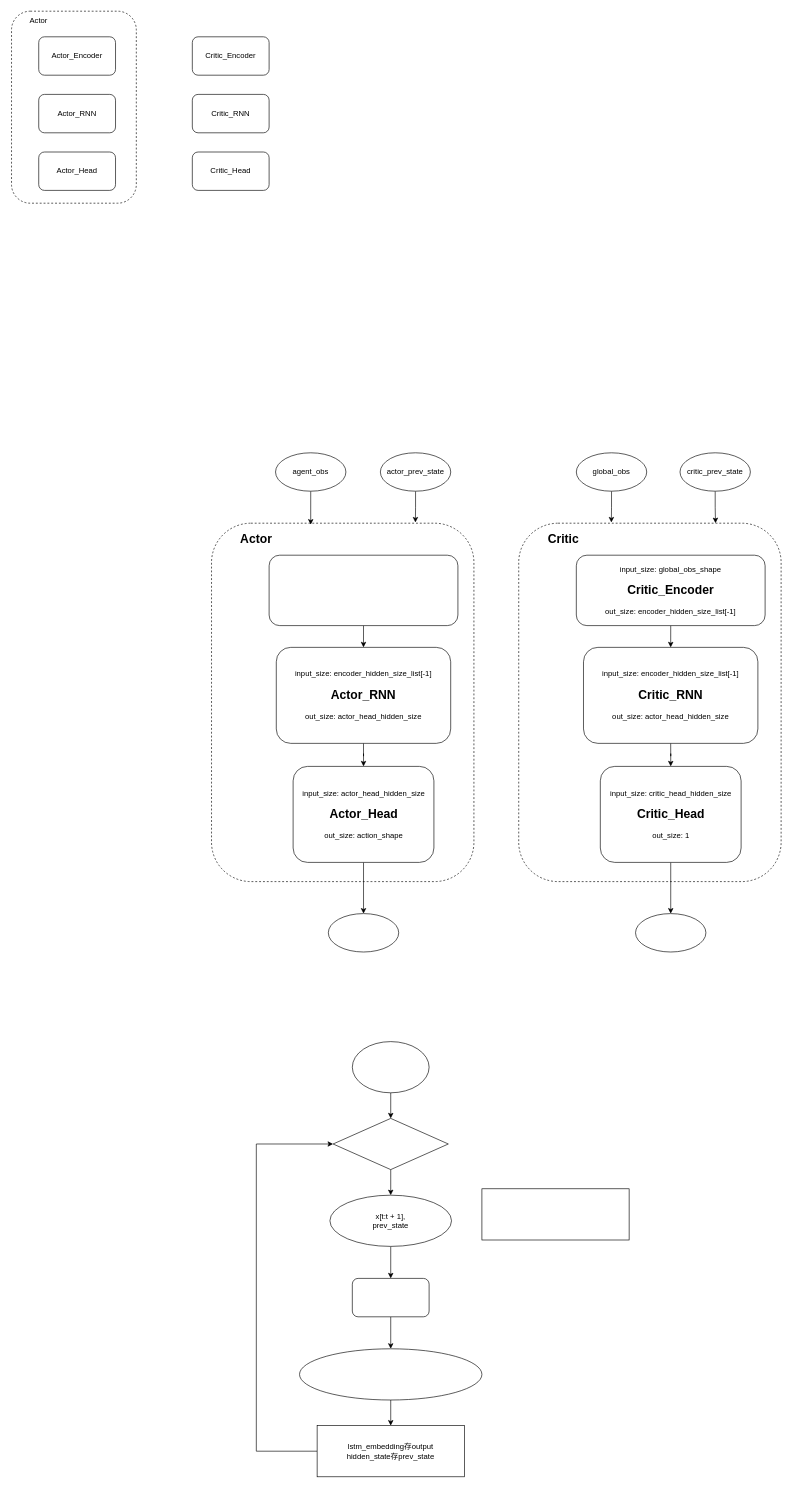
The diagram is 792 pixels wide and 1488 high, and some of its shapes have lost their labels. The centre of each missing label's shape, as x and y in pixels:
"action_logits /mu_sigma" belongs at point 363,932.
"input_size: agent_obs_shape Actor_Encoder out_size: encoder_hidden_size_list[-1]" belongs at point 363,590.
"lstm_embedding和 hidden_state进行拼接得到out_put和hidden_state，prev_state" belongs at point 555,1214.
"output shape(1,B,head_hidden_size), prev_state" belongs at point 390,1374.
"RNN" belongs at point 390,1297.
"t<T?" belongs at point 390,1144.
"value" belongs at point 670,932.
